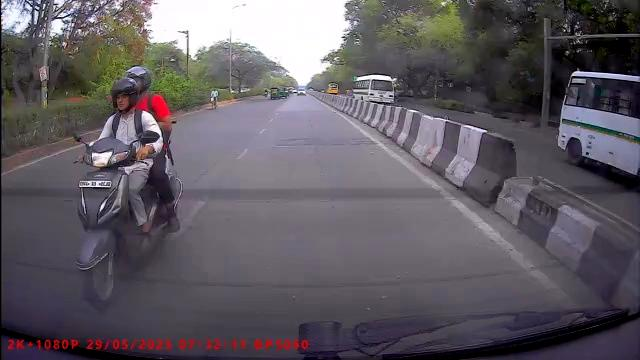passenger_with_helmet: (69, 65, 183, 307)
